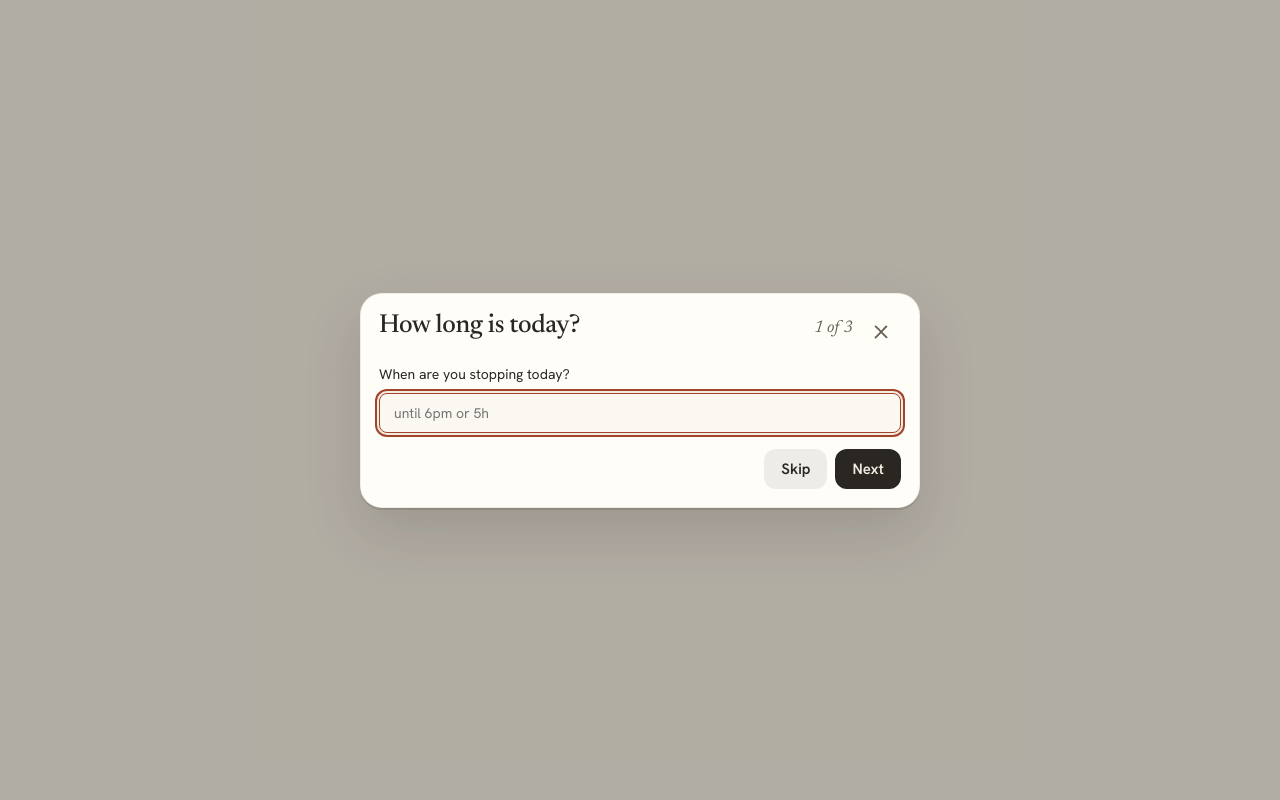
Test: <PlanRitual> under Field notes › drops the capacity hint, and keeps the refusal
Type "banana" into the field named "How long you are working today" at (640, 412), box [379,392,901,432]
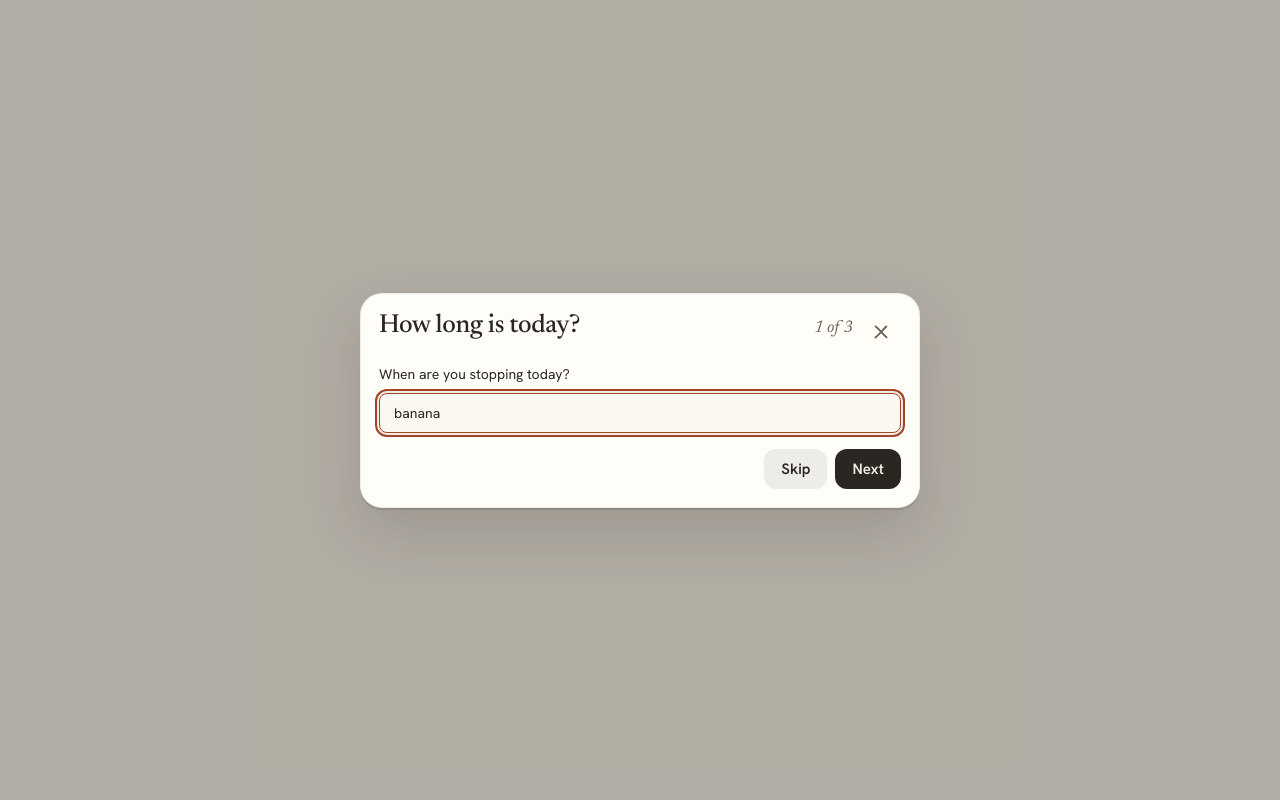
Press Tab
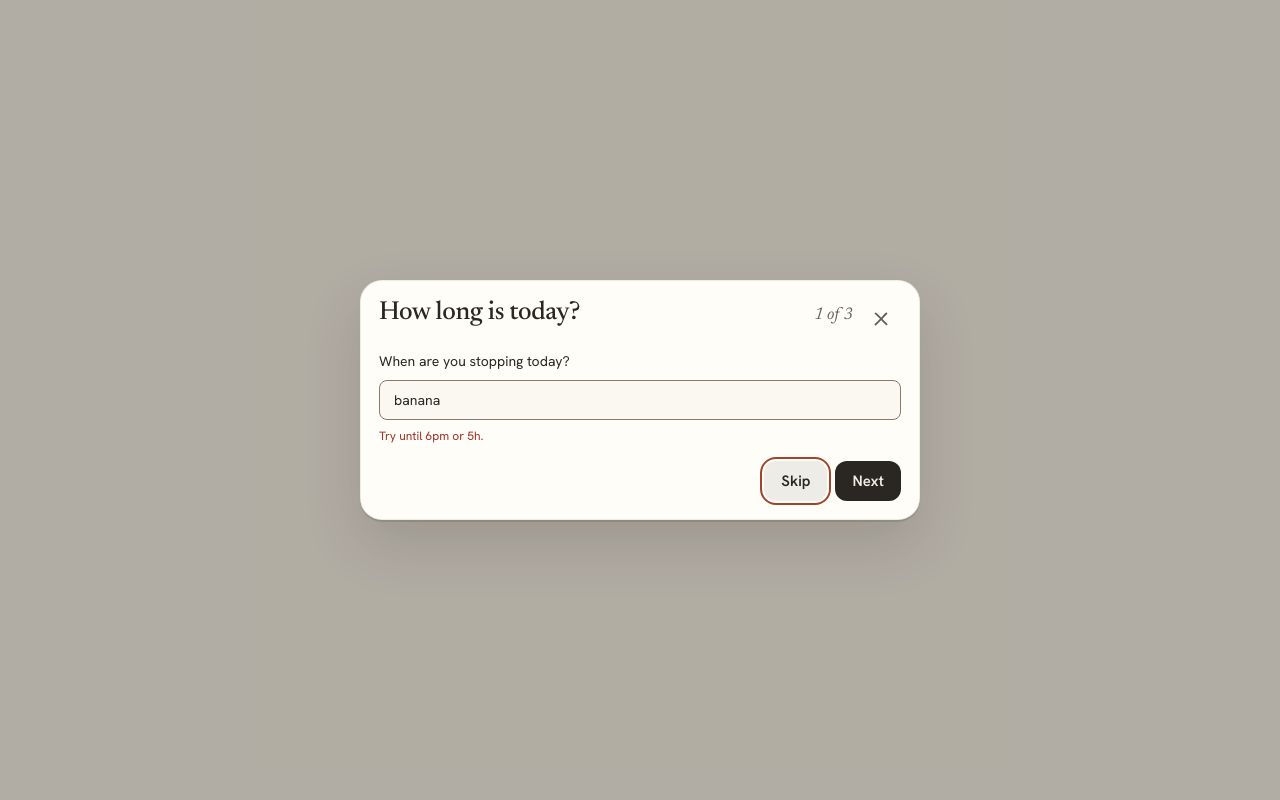
Expected: the message shows "Try", [379,428,399,444]
